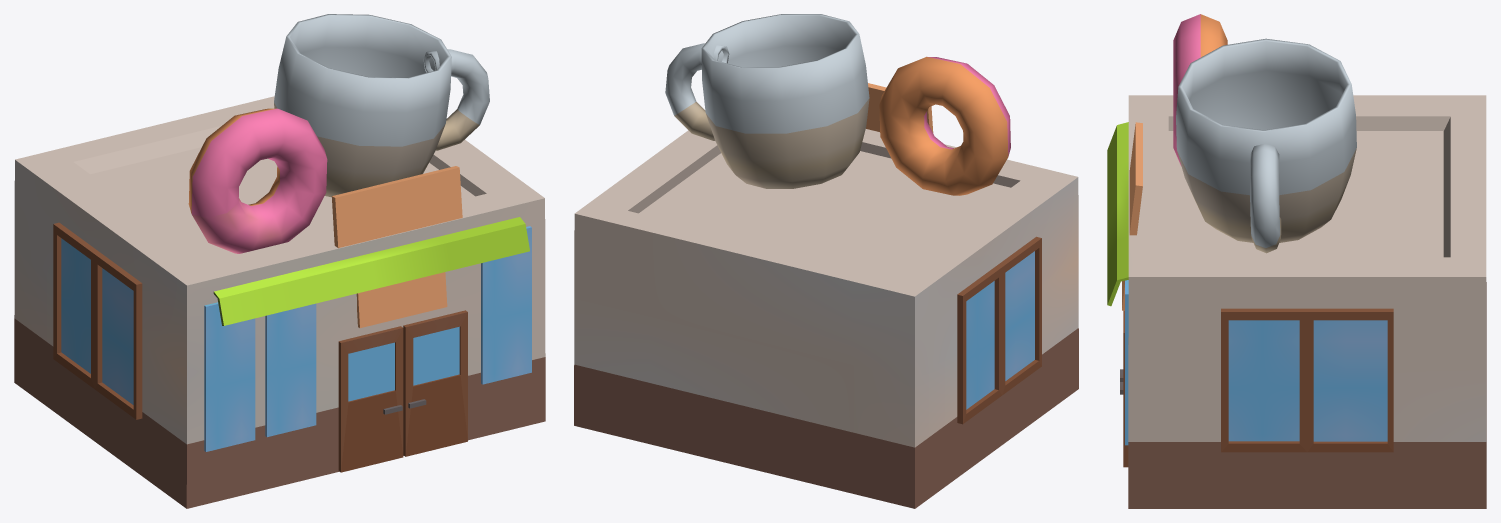
Rendered from SimpleStore.fbx.
3 renders of one model, left to right at view 1: azimuth 30°, elevation 25°; view 2: azimuth 150°, elevation 25°; view 3: azimuth 270°, elevation 25°, orthographic. The views are drawn at different scales.
Visible parts, largest first — view 1: SimpleStore; view 2: SimpleStore; view 3: SimpleStore.
Part boxes in pixels (left/top/right/bottom): SimpleStore: left=14, top=14, right=545, bottom=508; SimpleStore: left=574, top=14, right=1078, bottom=508; SimpleStore: left=1107, top=14, right=1486, bottom=508.
Size of the model in its own units: 587 by 546 by 497.
Materials: 1 (1 with a texture image).
